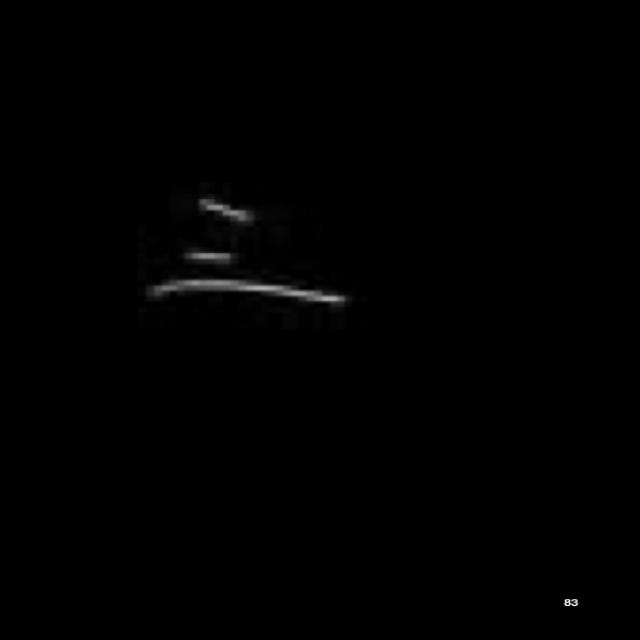3 -three-: (126, 184, 362, 324)
